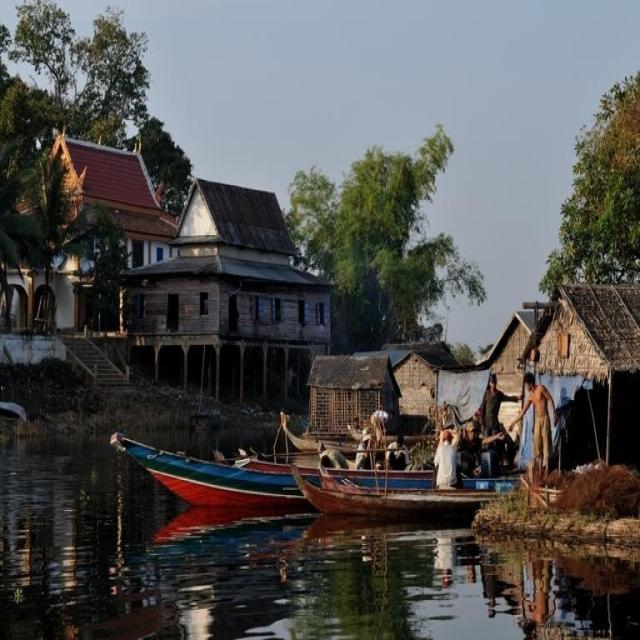boat: (90, 416, 504, 526), (292, 466, 502, 532)
